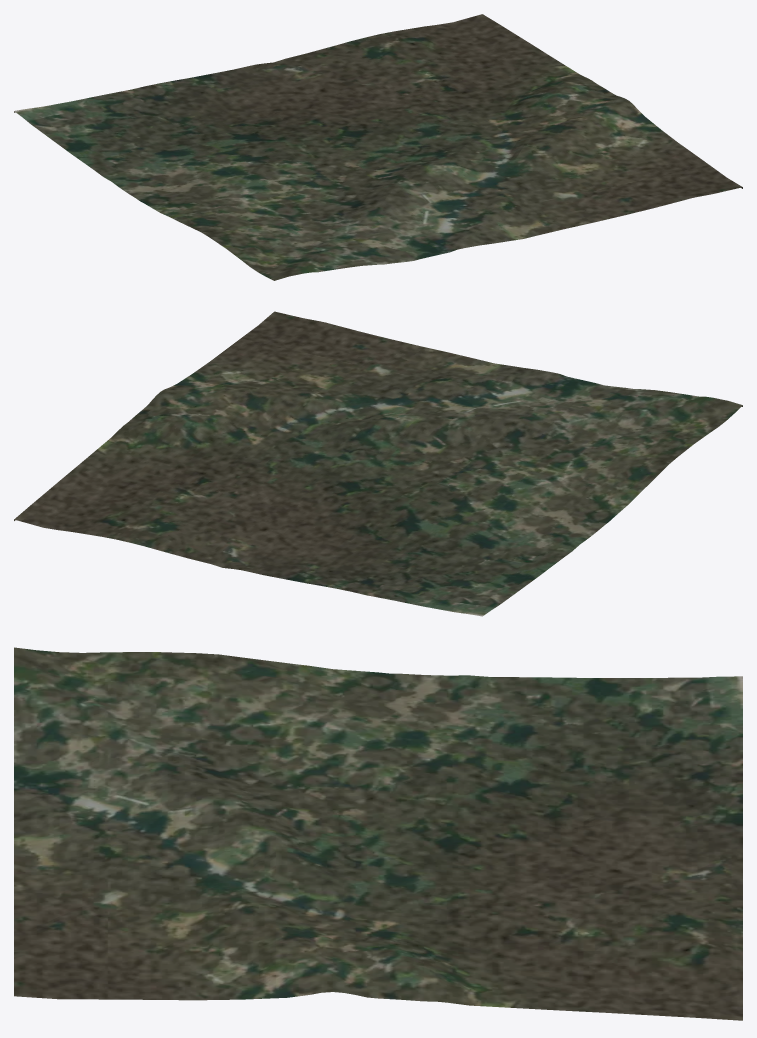
3 renders of one model, top to bottom at view 1: azimuth 30°, elevation 25°; view 2: azimuth 150°, elevation 25°; view 3: azimuth 270°, elevation 25°, orthographic. The views are drawn at different scales.
Bounding box in the file's own units: 250 × 21.34 × 241.
Materials: 1 (1 with a texture image).
